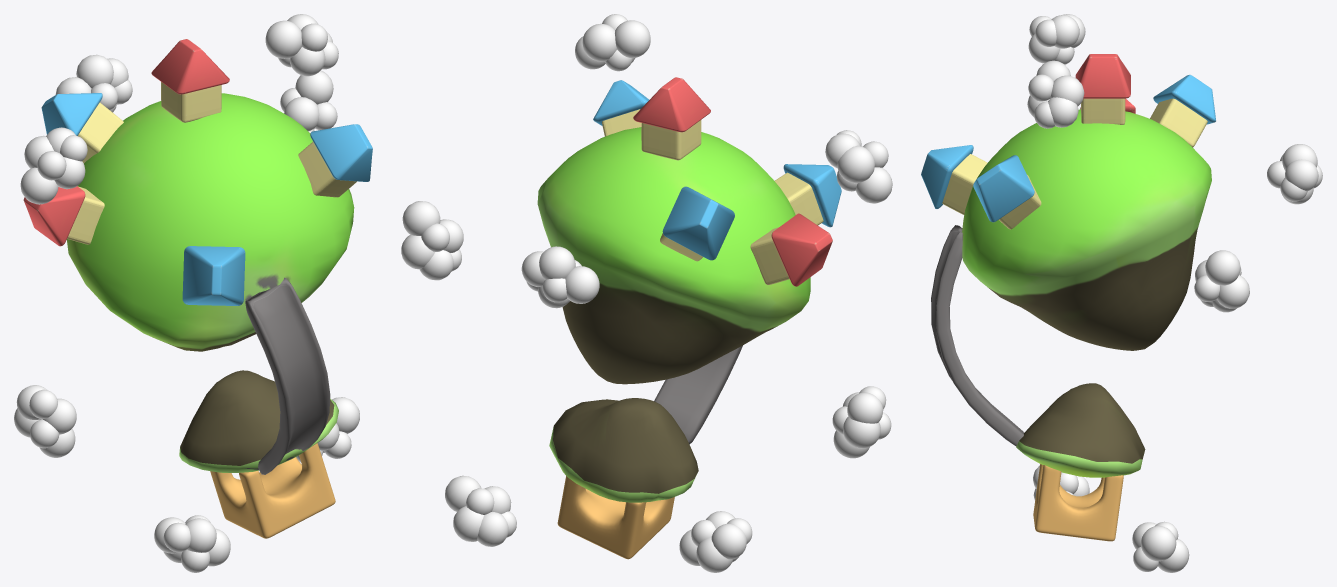
File: PlanetA.fbx
The picture shows the model from 3 angles, left to right: view 1: azimuth 30°, elevation 25°; view 2: azimuth 150°, elevation 25°; view 3: azimuth 270°, elevation 25°; orthographic projection. The views are drawn at different scales.
Parts seen in each view (by area): view 1: Sphere, Cube, Cube.001, Roundcube.006, Roundcube.004, Roundcube.002, Roundcube.010, Roundcube.008, Roundcube.001, Roundcube.003, Roundcube.007, Sphere.015 (+24 smaller); view 2: Sphere, Cube.001, Cube, Roundcube.008, Roundcube.010, Roundcube.002, Roundcube.006, Roundcube.001, Roundcube.004, Roundcube.005, Roundcube.009, Sphere.015 (+17 smaller); view 3: Sphere, Cube.001, Cube, Roundcube.004, Roundcube.002, Roundcube.006, Roundcube.008, Roundcube.007, Roundcube.005, Roundcube.001, Sphere.022, Sphere.029 (+11 smaller).
Part boxes in pixels (box(x1,y1,x2,y2)): Sphere: box(66, 93, 354, 472); Cube: box(245, 277, 330, 474); Cube.001: box(210, 443, 335, 538); Roundcube.006: box(182, 246, 245, 305); Roundcube.004: box(310, 124, 372, 181); Roundcube.002: box(151, 39, 229, 94); Roundcube.010: box(23, 186, 85, 246); Roundcube.008: box(41, 93, 102, 135); Roundcube.001: box(161, 82, 221, 122); Roundcube.003: box(298, 141, 356, 197); Roundcube.007: box(78, 102, 123, 163); Sphere.015: box(265, 20, 301, 58); Sphere: box(537, 127, 810, 502); Cube.001: box(557, 476, 674, 559); Cube: box(654, 345, 742, 444); Roundcube.008: box(662, 186, 734, 260); Roundcube.010: box(771, 213, 832, 286); Roundcube.002: box(633, 77, 710, 132); Roundcube.006: box(783, 164, 841, 227); Roundcube.001: box(641, 120, 701, 160); Roundcube.004: box(593, 80, 649, 125); Roundcube.005: box(774, 172, 823, 225); Roundcube.009: box(750, 227, 789, 285); Sphere.015: box(615, 20, 650, 57); Sphere: box(962, 109, 1211, 477); Cube.001: box(1033, 464, 1123, 541); Cube: box(931, 225, 1023, 446); Roundcube.004: box(973, 155, 1034, 222); Roundcube.002: box(1075, 54, 1130, 98); Roundcube.006: box(921, 145, 973, 208); Roundcube.008: box(1153, 74, 1215, 124); Roundcube.007: box(1150, 98, 1207, 147); Roundcube.005: box(942, 154, 987, 214); Roundcube.001: box(1081, 98, 1125, 124); Sphere.022: box(1141, 526, 1176, 561); Sphere.029: box(1205, 250, 1240, 285).
Bounding box in the file's own units: 674 × 852 × 633.
1 material, 1 textured.
